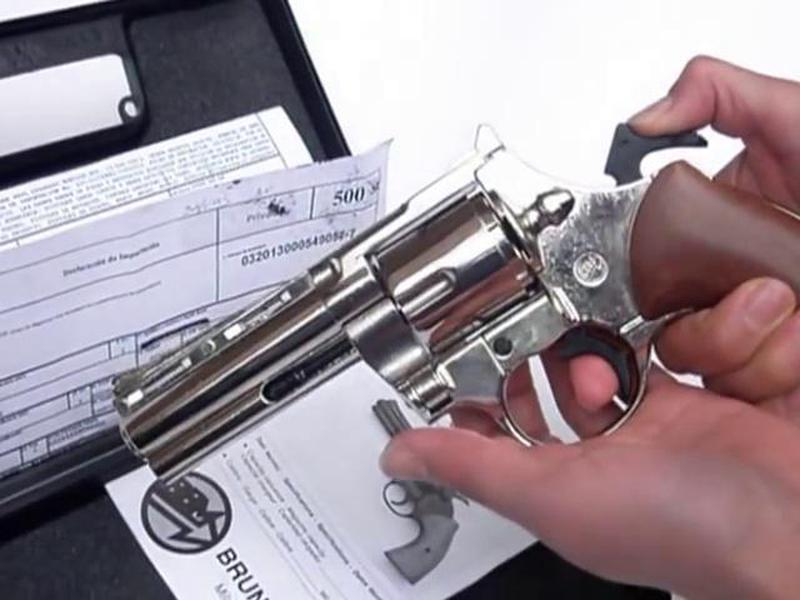Revolver: (121, 114, 800, 475)
